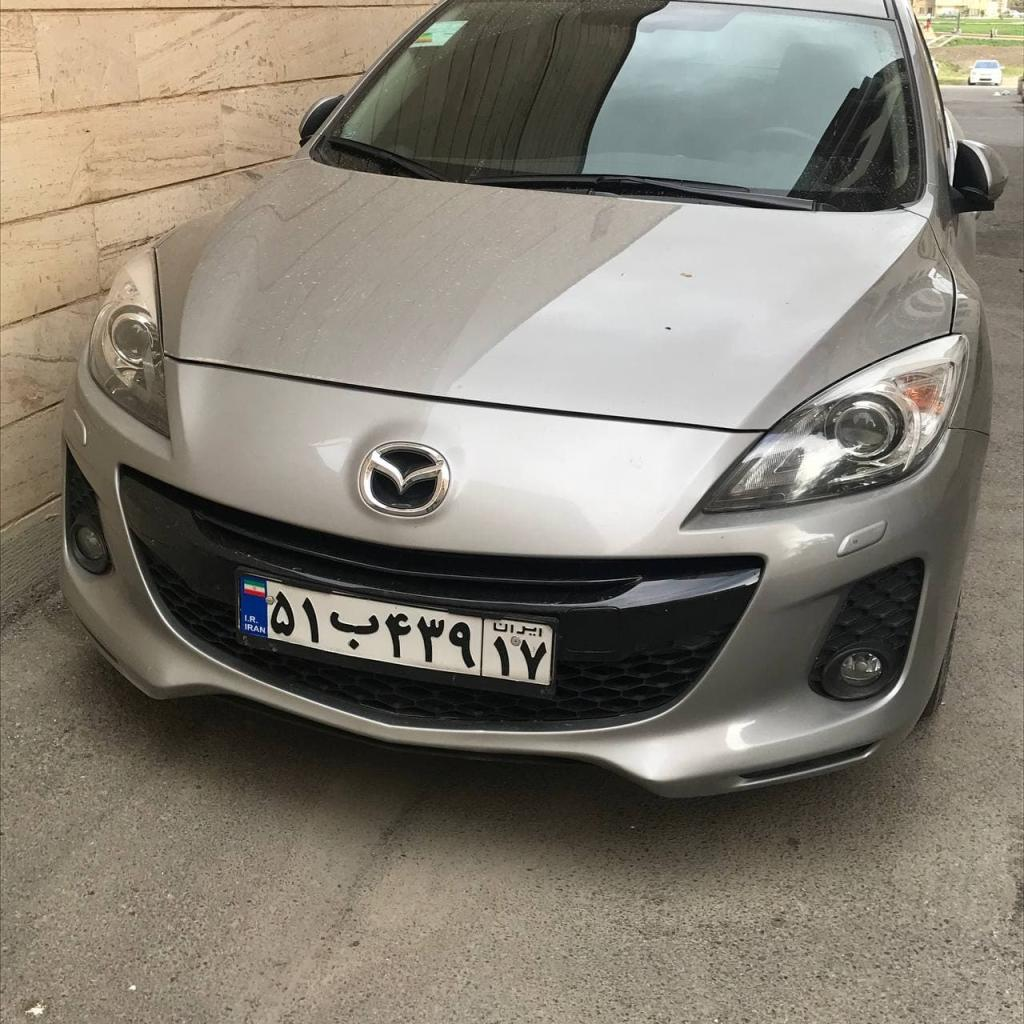Plates: (240, 576, 553, 687)
